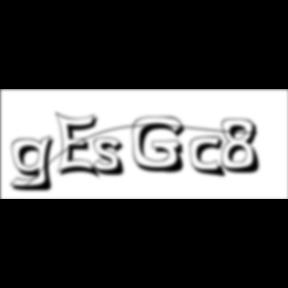8: (222, 117, 266, 176)
E: (56, 110, 104, 182)
G: (132, 116, 192, 176)
c: (190, 136, 230, 180)
g: (10, 134, 62, 194)
s: (92, 137, 132, 179)
